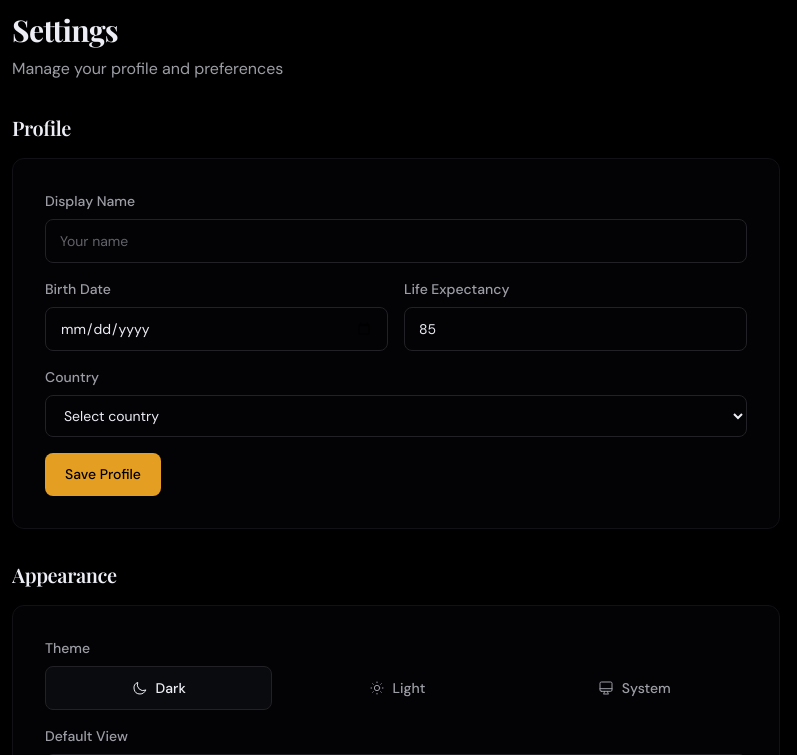
Test: SettingsView › Error Handling › handles profile save error gracefully
In the field with placeholder "Your name": [396, 241] box [45,219,747,263], type "Test"
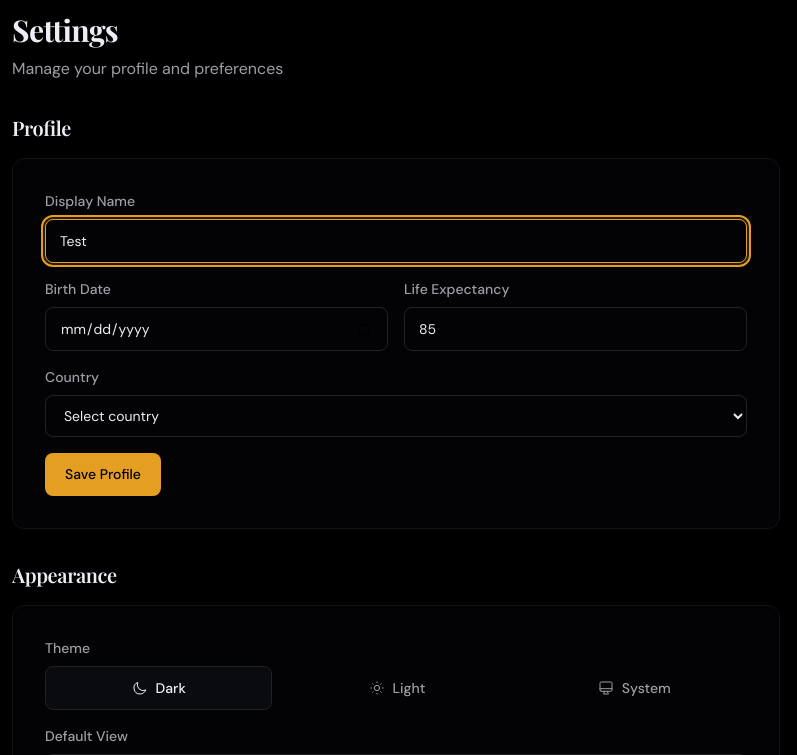
Click the button "Save Profile": [103, 475] box [45,453,161,496]
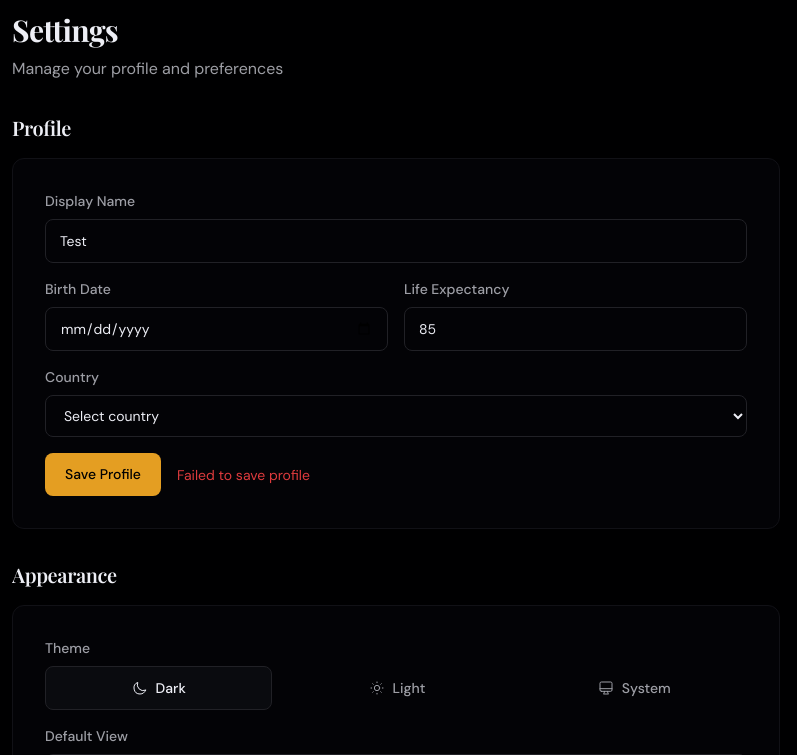
Result: the text "Failed to save profile" is shown at [177,465,310,485]
